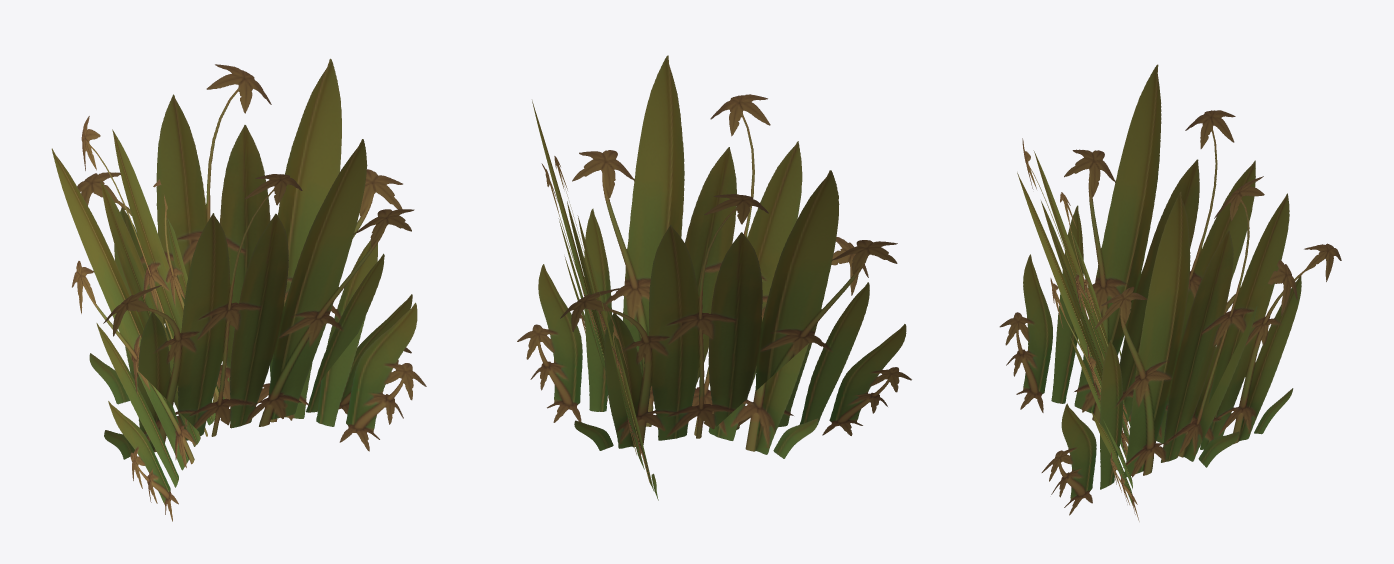
Rendered from veg_Sanctum_Grass.fbx.
3 renders of one model, left to right at view 1: azimuth 30°, elevation 25°; view 2: azimuth 150°, elevation 25°; view 3: azimuth 270°, elevation 25°, orthographic. The views are drawn at different scales.
Visible parts, largest first — view 1: veg_Sanctum_Grass; view 2: veg_Sanctum_Grass; view 3: veg_Sanctum_Grass.
Part boxes in pixels (<box>): veg_Sanctum_Grass: <box>51,58,426,521</box>; veg_Sanctum_Grass: <box>517,55,911,500</box>; veg_Sanctum_Grass: <box>999,64,1341,521</box>.
Size of the model in its own units: 70.88 by 57.22 by 57.89.
